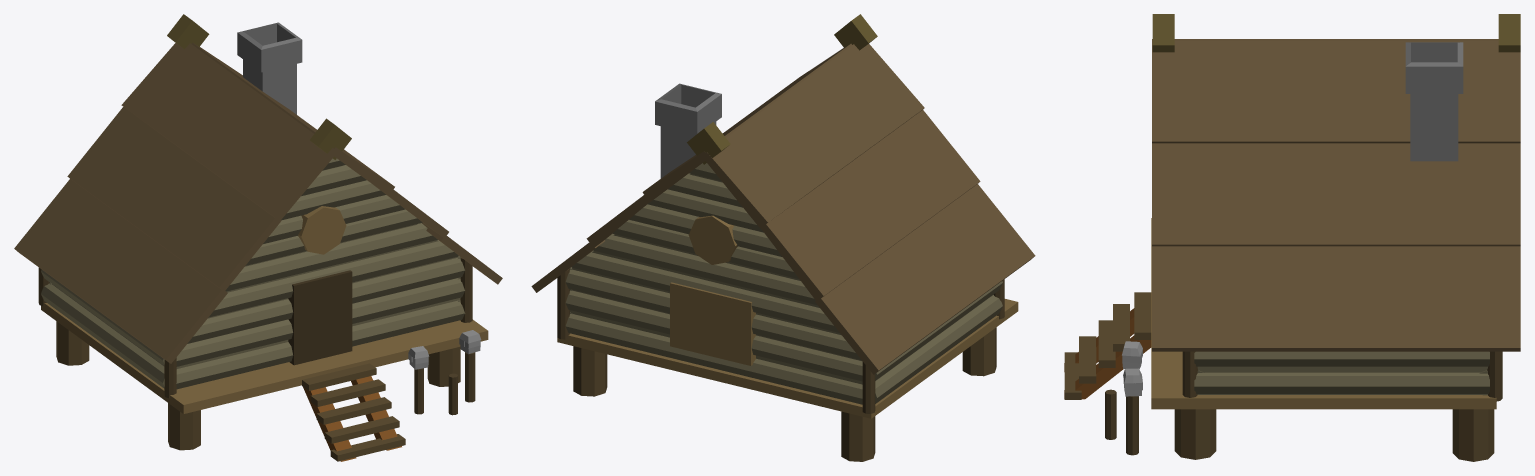
The model's file is SeersHut.fbx.
The picture shows the model from 3 angles, left to right: view 1: azimuth 30°, elevation 25°; view 2: azimuth 150°, elevation 25°; view 3: azimuth 270°, elevation 25°; orthographic projection. The views are drawn at different scales.
Visible parts, largest first — view 1: Cube.001, Cylinder.029, test.005, test.006, Cube.007, Cylinder.007, Cube.003, Cylinder.001, test.011, Cube.008, Cylinder.003; view 2: Cube.001, Cylinder.029, Cylinder.007, test.005, Cube.010, Cube.003, test.011, Cylinder.001, Cube.008; view 3: Cube.001, Cylinder.029, test.005, Cube.003, Cylinder.007, test.006, test.011, Cube.008, Cylinder.003, hoofd.001, hoofd.
Boxes of the visible parts, left/top/right/bottom form: Cube.001: left=14, top=42, right=502, bottom=363; Cylinder.029: left=41, top=158, right=465, bottom=389; test.005: left=41, top=303, right=488, bottom=413; test.006: left=302, top=363, right=405, bottom=461; Cube.007: left=288, top=270, right=352, bottom=365; Cylinder.007: left=38, top=257, right=472, bottom=450; Cube.003: left=237, top=22, right=302, bottom=114; Cylinder.001: left=298, top=206, right=346, bottom=254; test.011: left=52, top=165, right=460, bottom=368; Cube.008: left=167, top=14, right=351, bottom=159; Cylinder.003: left=414, top=352, right=475, bottom=415; Cube.001: left=531, top=43, right=1035, bottom=374; Cylinder.029: left=565, top=163, right=1002, bottom=404; Cylinder.007: left=557, top=268, right=1004, bottom=461; test.005: left=557, top=299, right=1018, bottom=418; Cube.010: left=670, top=282, right=755, bottom=365; Cube.003: left=655, top=83, right=721, bottom=178; test.011: left=570, top=174, right=991, bottom=384; Cylinder.001: left=688, top=215, right=737, bottom=264; Cube.008: left=687, top=14, right=877, bottom=164; Cube.001: left=1152, top=39, right=1520, bottom=351; Cylinder.029: left=1194, top=351, right=1489, bottom=395; test.005: left=1151, top=218, right=1496, bottom=409; Cube.003: left=1405, top=42, right=1463, bottom=161; Cylinder.007: left=1174, top=351, right=1502, bottom=461; test.006: left=1064, top=292, right=1151, bottom=399; test.011: left=1198, top=366, right=1487, bottom=394; Cube.008: left=1152, top=14, right=1520, bottom=52; Cylinder.003: left=1105, top=389, right=1138, bottom=455; hoofd.001: left=1122, top=341, right=1142, bottom=368; hoofd: left=1123, top=368, right=1142, bottom=396.
Bounding box in the file's own units: 442 × 380 × 428.
